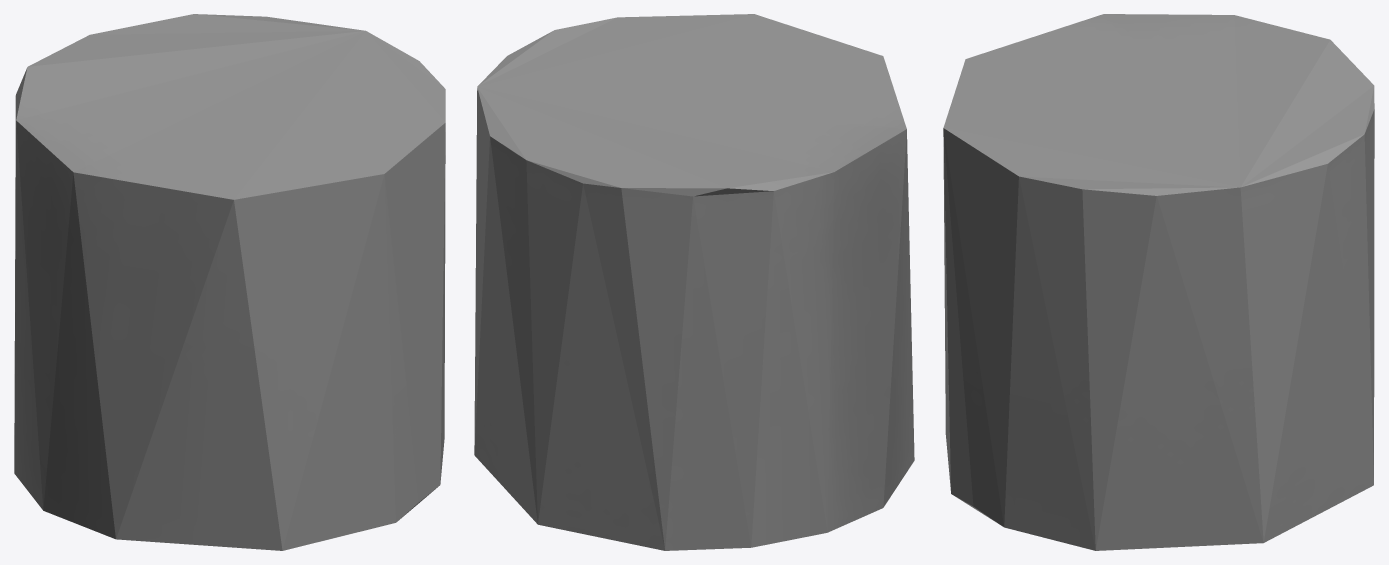
File: metal2_1b.dae
3 views of the same model, side by side, from view 1: azimuth 30°, elevation 25°; view 2: azimuth 150°, elevation 25°; view 3: azimuth 270°, elevation 25° (orthographic).
Visible parts, largest first — view 1: node; view 2: node; view 3: node.
Boxes of the visible parts, x1=… form: node: x1=14, y1=14, x2=445, y2=550; node: x1=474, y1=14, x2=914, y2=550; node: x1=943, y1=14, x2=1374, y2=550.
Size of the model in its own units: 0.2899 by 0.2687 by 0.2858.
1 material, 1 textured.
